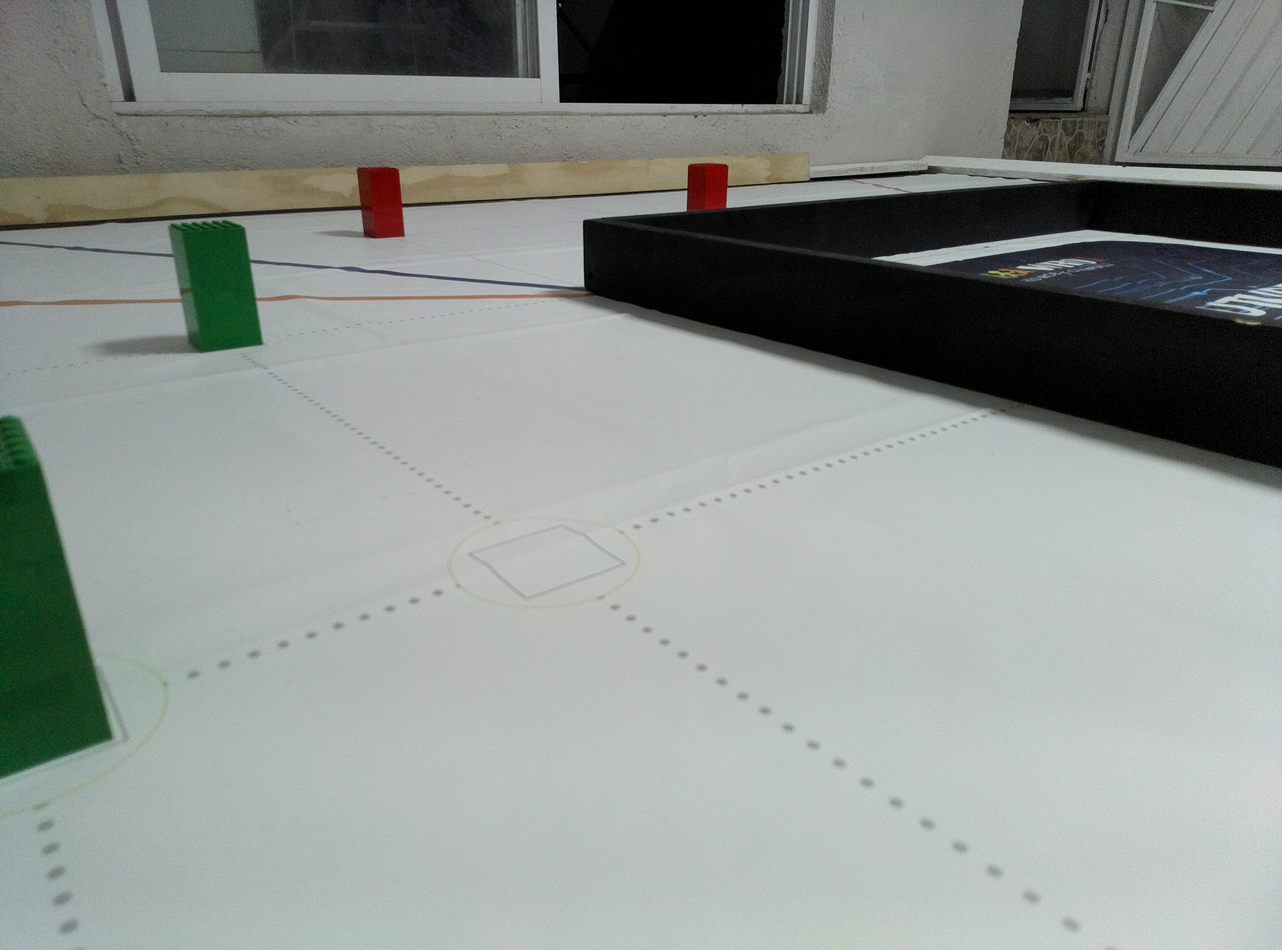greenbox: (0, 412, 115, 789), (167, 223, 264, 354)
redbox: (356, 165, 406, 239), (687, 163, 729, 211)
